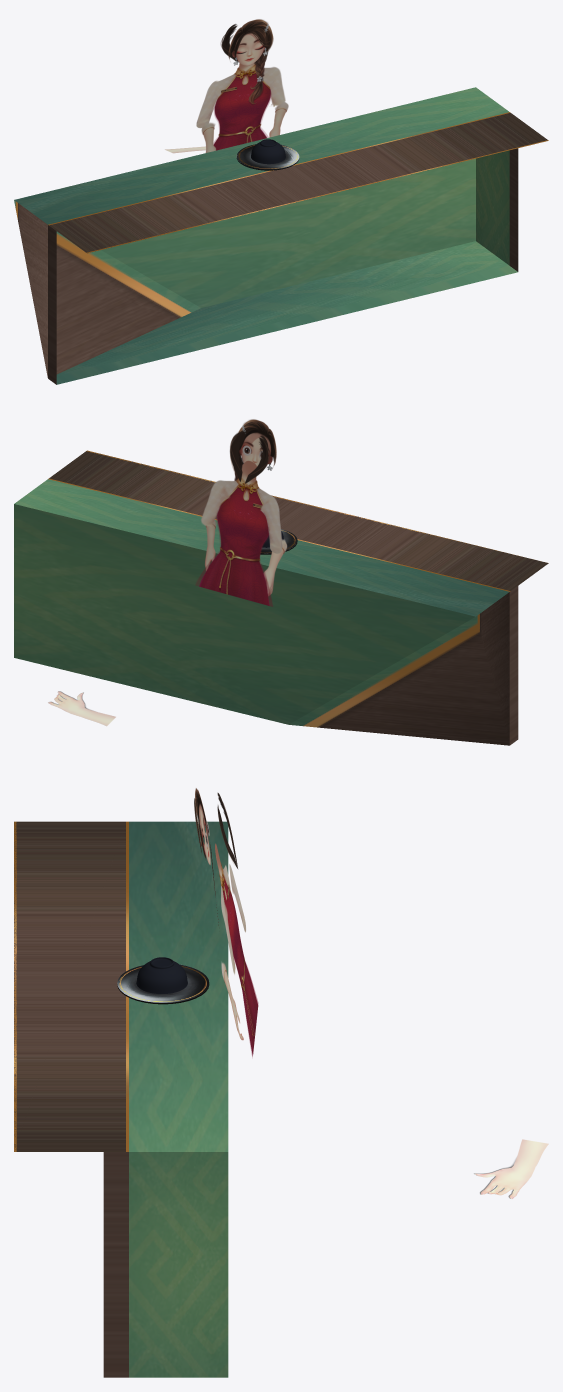
File: 2D ANIMATION RESET.glb
The picture shows the model from 3 angles, top to bottom: view 1: azimuth 30°, elevation 25°; view 2: azimuth 150°, elevation 25°; view 3: azimuth 270°, elevation 25°; orthographic projection. The views are drawn at different scales.
Parts seen in each view (by area): view 1: Cube, body, head, dish, Sphere, left upper hand; view 2: Cube, body, head, dish hand, left upper hand, right upper hand, left lower hand, right side hair group, left side hair group; view 3: Cube, body, dish hand, dish, Sphere.
Part boxes in pixels (x1=…): Cube: x1=14, y1=87, x2=548, y2=384; body: x1=213, y1=63, x2=279, y2=150; head: x1=228, y1=19, x2=273, y2=65; dish: x1=236, y1=144, x2=299, y2=170; Sphere: x1=251, y1=139, x2=285, y2=164; left upper hand: x1=196, y1=80, x2=218, y2=128; Cube: x1=14, y1=450, x2=548, y2=745; body: x1=196, y1=460, x2=276, y2=606; head: x1=238, y1=419, x2=276, y2=466; dish hand: x1=48, y1=691, x2=115, y2=726; left upper hand: x1=260, y1=498, x2=282, y2=553; right upper hand: x1=201, y1=480, x2=229, y2=527; left lower hand: x1=264, y1=539, x2=287, y2=596; right side hair group: x1=230, y1=430, x2=246, y2=481; left side hair group: x1=245, y1=435, x2=270, y2=483; Cube: x1=14, y1=821, x2=228, y2=1377; body: x1=215, y1=843, x2=258, y2=1057; dish hand: x1=474, y1=1139, x2=548, y2=1198; dish: x1=117, y1=964, x2=209, y2=1004; Sphere: x1=136, y1=957, x2=187, y2=993.
Size of the model in its own units: 6.28 by 3.74 by 4.3.
22 materials, 17 textured.
